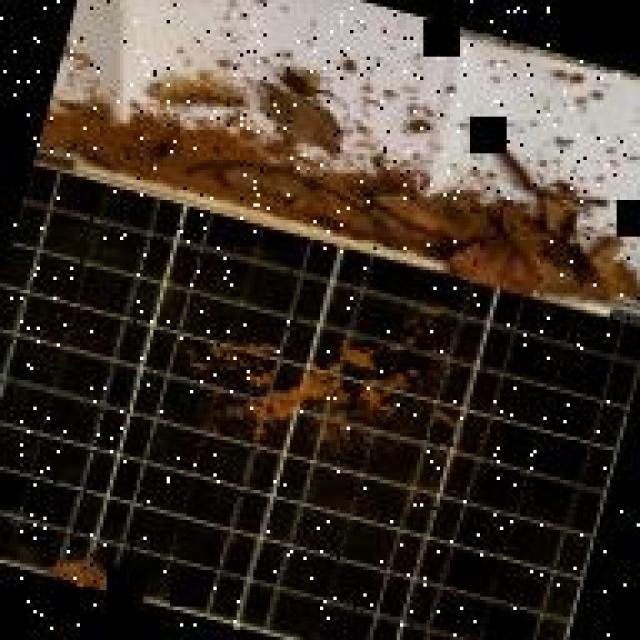dust-solar-panel: (0, 180, 640, 640)
